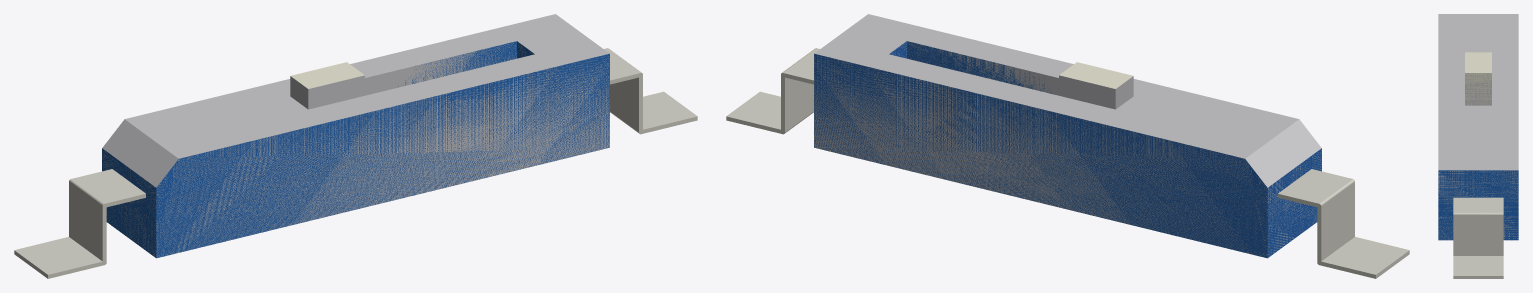
Rendered from kc-sw_spst_reed_ct10-xxxx-g1.glb.
3 renders of one model, left to right at view 1: azimuth 30°, elevation 25°; view 2: azimuth 150°, elevation 25°; view 3: azimuth 270°, elevation 25°, orthographic. The views are drawn at different scales.
Parts seen in each view (by area): view 1: 0.5833333333333334_0.5833333333333334_0.5833333333333334_0.8, 0_0.16666666666666666_0.5_0, 0.6666666666666666_0.6666666666666666_0.5833333333333334_0.8, 0.75_0.75_0.6666666666666666_0; view 2: 0.5833333333333334_0.5833333333333334_0.5833333333333334_0.8, 0_0.16666666666666666_0.5_0, 0.6666666666666666_0.6666666666666666_0.5833333333333334_0.8, 0.75_0.75_0.6666666666666666_0; view 3: 0.5833333333333334_0.5833333333333334_0.5833333333333334_0.8, 0.6666666666666666_0.6666666666666666_0.5833333333333334_0.8, 0_0.16666666666666666_0.5_0, 0.75_0.75_0.6666666666666666_0.
Part boxes in pixels (<box>): 0.5833333333333334_0.5833333333333334_0.5833333333333334_0.8: <box>102,14,609,258</box>; 0_0.16666666666666666_0.5_0: <box>102,41,609,257</box>; 0.6666666666666666_0.6666666666666666_0.5833333333333334_0.8: <box>14,48,697,278</box>; 0.75_0.75_0.6666666666666666_0: <box>291,62,364,88</box>; 0.5833333333333334_0.5833333333333334_0.5833333333333334_0.8: <box>814,14,1321,257</box>; 0_0.16666666666666666_0.5_0: <box>814,41,1321,258</box>; 0.6666666666666666_0.6666666666666666_0.5833333333333334_0.8: <box>726,48,1409,278</box>; 0.75_0.75_0.6666666666666666_0: <box>1059,62,1132,88</box>; 0.5833333333333334_0.5833333333333334_0.5833333333333334_0.8: <box>1438,14,1518,240</box>; 0.6666666666666666_0.6666666666666666_0.5833333333333334_0.8: <box>1453,197,1503,278</box>; 0_0.16666666666666666_0.5_0: <box>1438,170,1518,240</box>; 0.75_0.75_0.6666666666666666_0: <box>1465,52,1491,105</box>.
Size of the model in its own units: 1.66 by 0.29 by 0.24.
